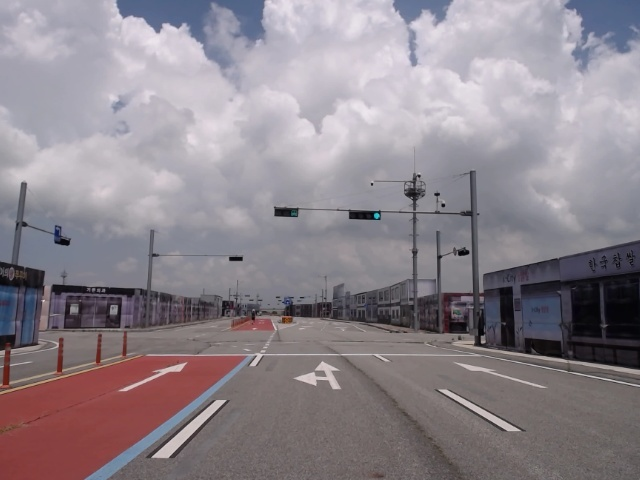straight_green_4: (348, 212, 382, 221)
